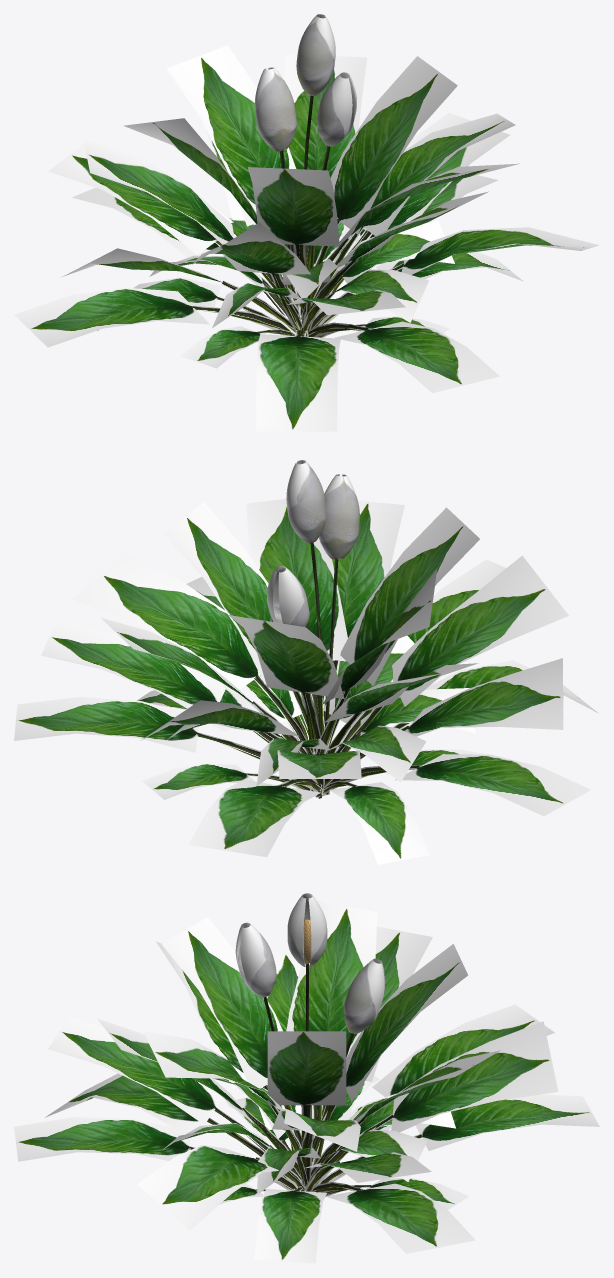
The model's file is peace_lily_plants__flower.glb.
3 renders of one model, top to bottom at view 1: azimuth 30°, elevation 25°; view 2: azimuth 150°, elevation 25°; view 3: azimuth 270°, elevation 25°, orthographic. The views are drawn at different scales.
Parts seen in each view (by area): view 1: Plane005_0, Plane009_4, Plane027_22, Plane029_24, Plane007_2, Plane026_21, Plane011_6, Plane014_9, Plane010_5, Plane018_13, Plane015_10, Plane013_8 (+20 smaller); view 2: Plane011_6, Plane013_8, Plane007_2, Plane017_12, Plane023_18, Plane005_0, Plane006_1, Plane019_14, Plane021_16, Plane029_24, Plane009_4, Plane012_7 (+19 smaller); view 3: Plane020_15, Plane007_2, Plane008_3, Plane026_21, Plane015_10, Plane005_0, Plane009_4, Plane016_11, Plane023_18, Plane021_16, Plane024_19, Plane018_13 (+21 smaller).
Part boxes in pixels (<box>): Plane005_0: <box>295,56,457,331</box>; Plane009_4: <box>167,45,306,323</box>; Plane027_22: <box>256,326,340,431</box>; Plane029_24: <box>14,287,294,347</box>; Plane007_2: <box>247,167,339,321</box>; Plane026_21: <box>306,321,499,393</box>; Plane011_6: <box>314,113,515,297</box>; Plane014_9: <box>83,138,298,314</box>; Plane010_5: <box>283,54,366,269</box>; Plane018_13: <box>48,144,287,318</box>; Plane015_10: <box>311,227,599,328</box>; Plane013_8: <box>192,222,310,330</box>; Plane011_6: <box>71,555,322,794</box>; Plane013_8: <box>340,555,568,752</box>; Plane007_2: <box>310,507,479,796</box>; Plane017_12: <box>322,658,563,789</box>; Plane023_18: <box>14,697,260,759</box>; Plane005_0: <box>163,502,329,796</box>; Plane006_1: <box>246,499,347,796</box>; Plane019_14: <box>41,621,272,743</box>; Plane021_16: <box>188,779,322,857</box>; Plane029_24: <box>325,754,590,816</box>; Plane009_4: <box>228,615,344,753</box>; Plane012_7: <box>318,501,404,794</box>; Plane020_15: <box>316,1021,558,1185</box>; Plane007_2: <box>162,917,301,1146</box>; Plane008_3: <box>286,901,377,1191</box>; Plane026_21: <box>14,1117,296,1190</box>; Plane015_10: <box>137,1145,307,1230</box>; Plane005_0: <box>267,1031,346,1169</box>; Plane009_4: <box>304,944,468,1186</box>; Plane016_11: <box>48,1017,267,1151</box>; Plane023_18: <box>312,1182,475,1253</box>; Plane021_16: <box>320,1094,599,1183</box>; Plane024_19: <box>254,1186,326,1263</box>; Plane018_13: <box>336,1004,554,1150</box>.
Bounding box in the file's own units: 0.7765 × 0.4772 × 0.7978.
Materials: 4 (4 with a texture image).
